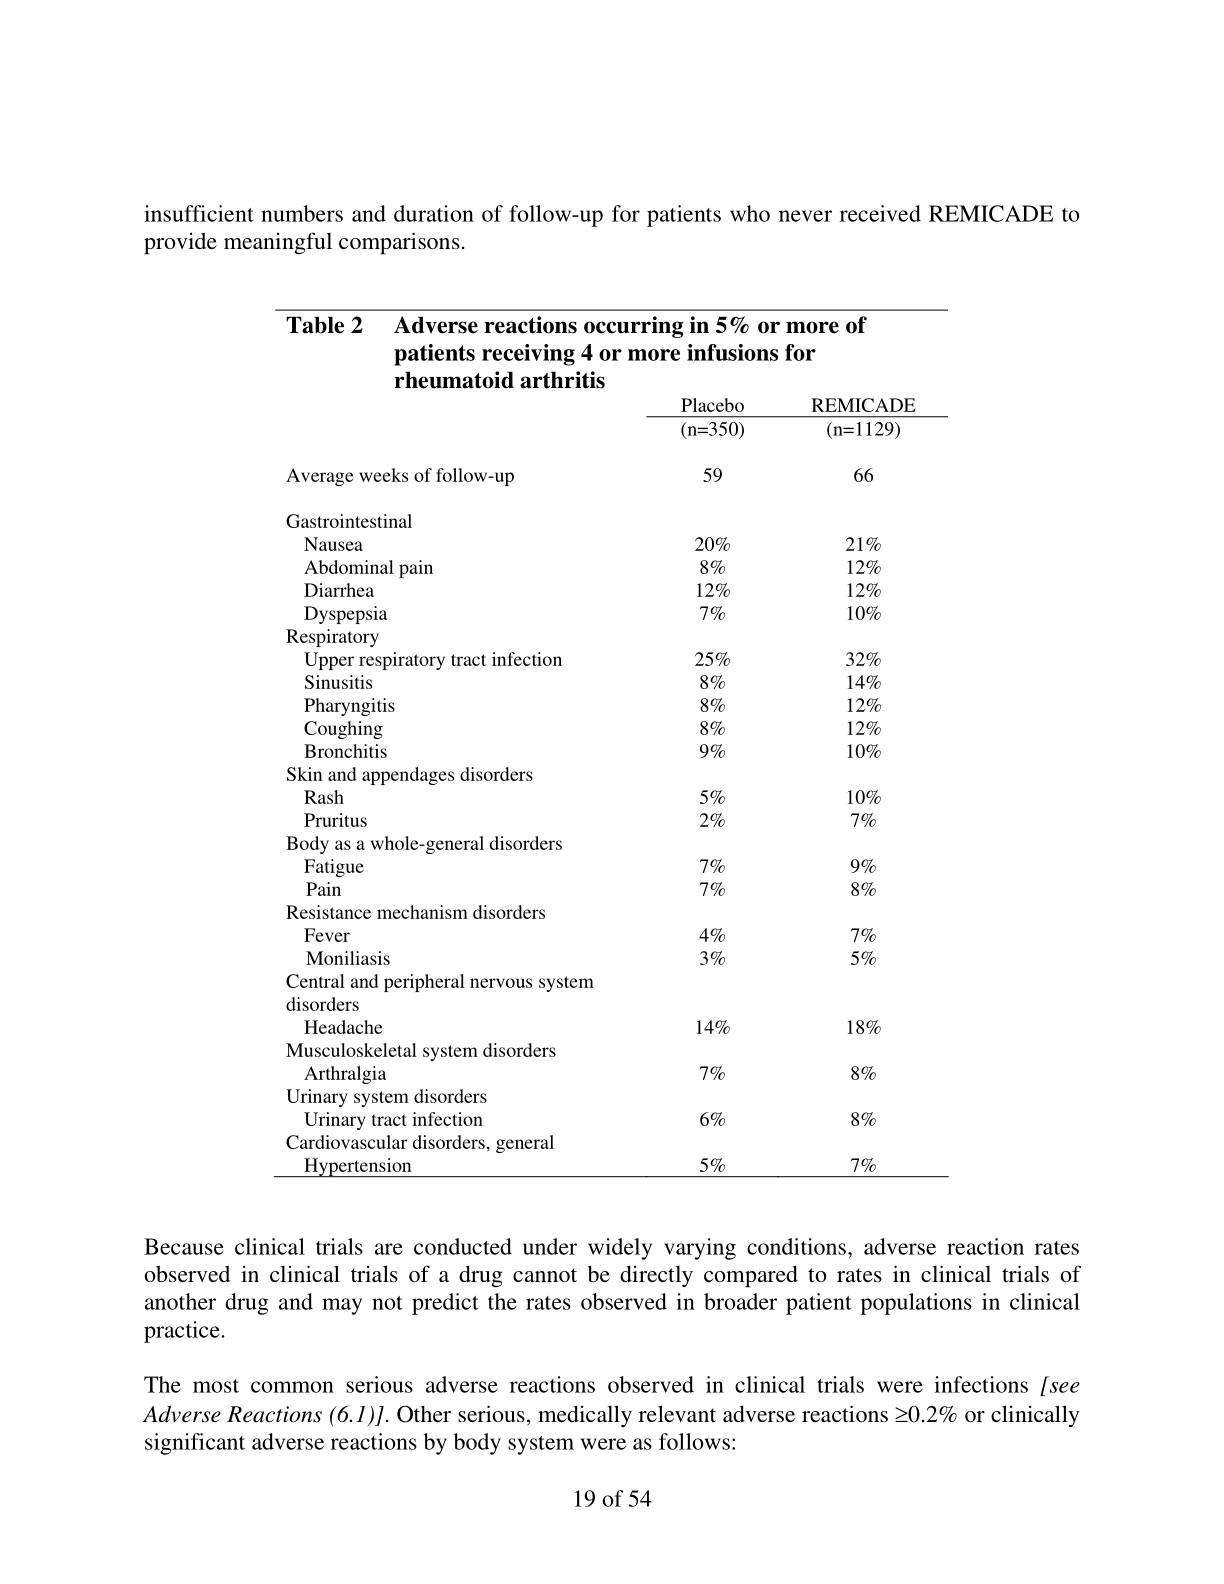partial_lined: (278, 391, 948, 1180)
